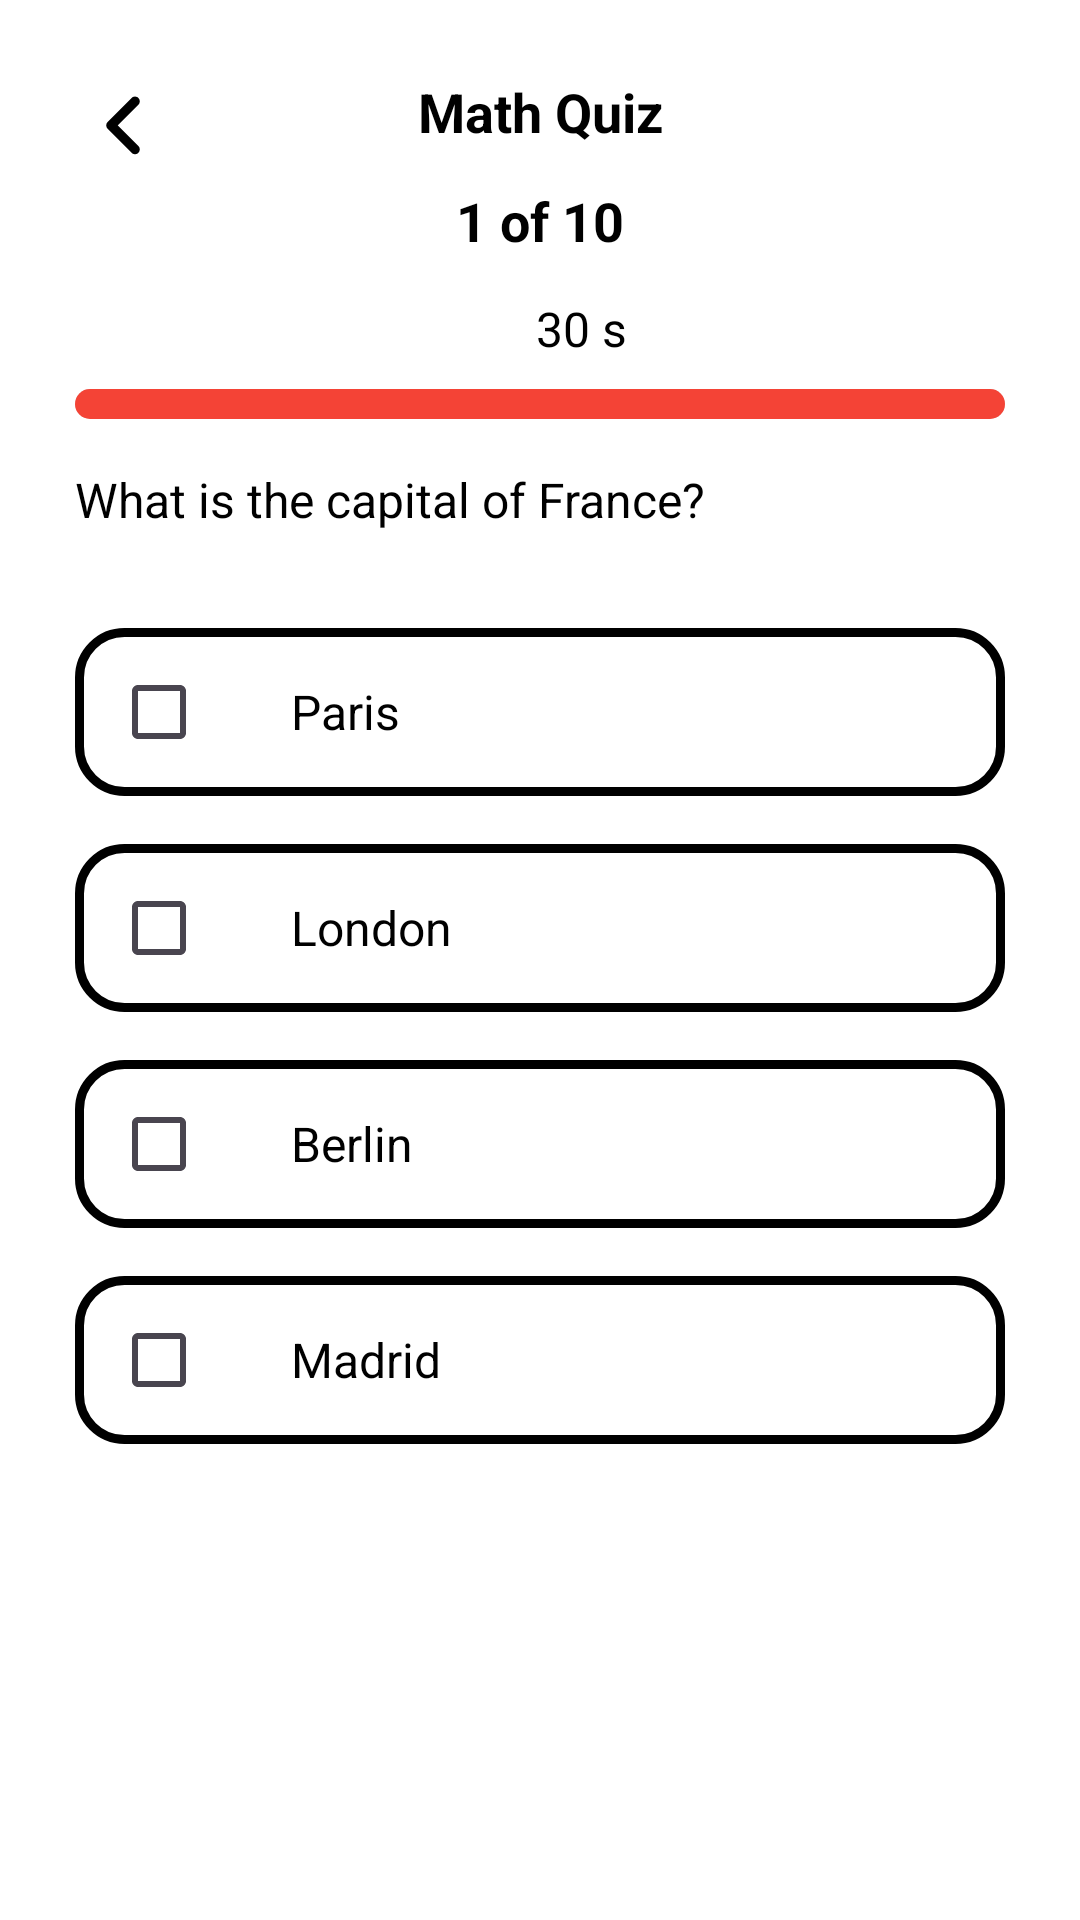

Named icons in this screenshot (1080*1920) and their centers, (x,y):
Back: (123,125)
